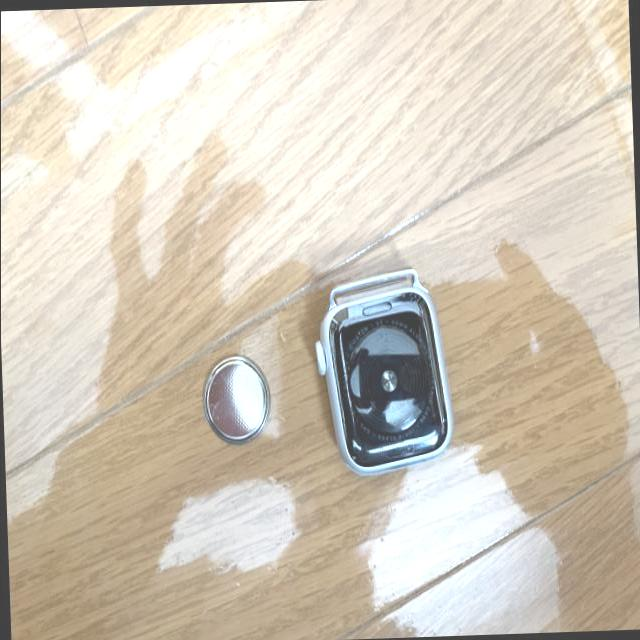COIN: (204, 355, 273, 443)
